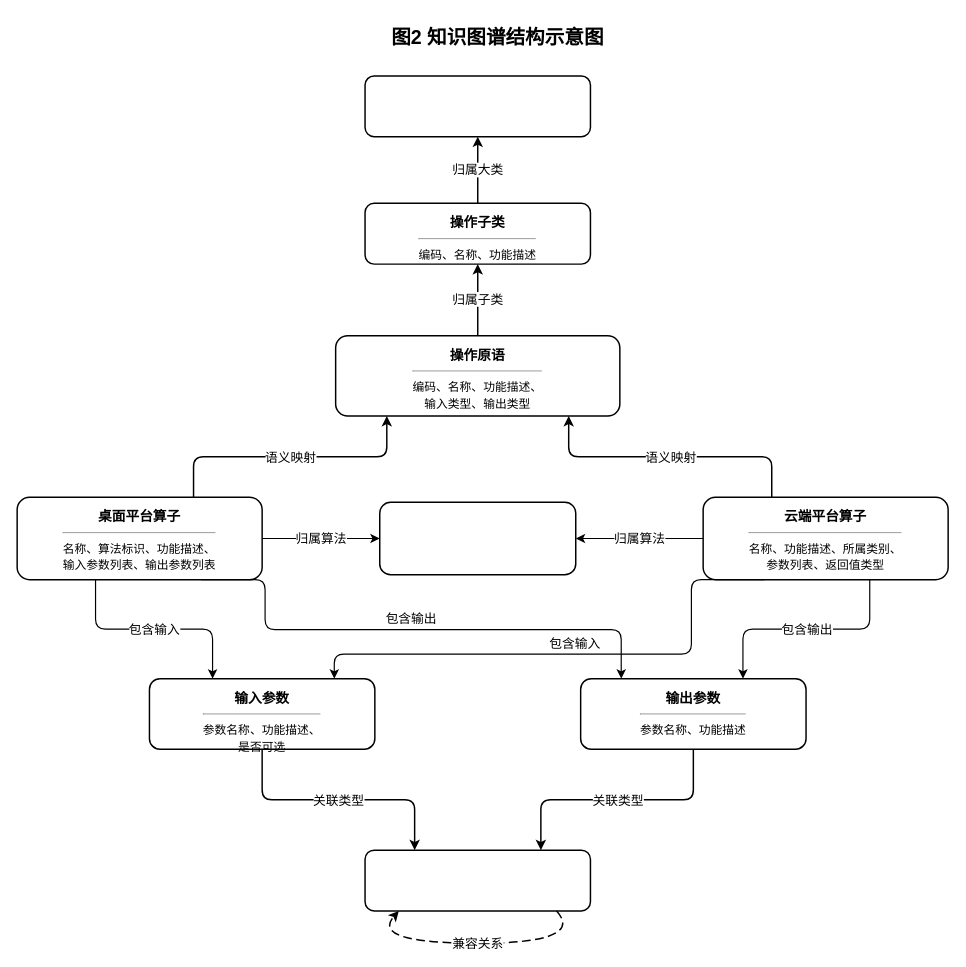
Image size: 966x967. Some labels were removed from this diagram. The centre of each missing label's shape, as x and y in pixels:
"操作大类 编码、名称、功能描述" goes at point (477, 106).
"数据类型 名称、类别、数据格式" goes at point (477, 880).
"算法 名称、类别、功能描述" goes at point (477, 538).
